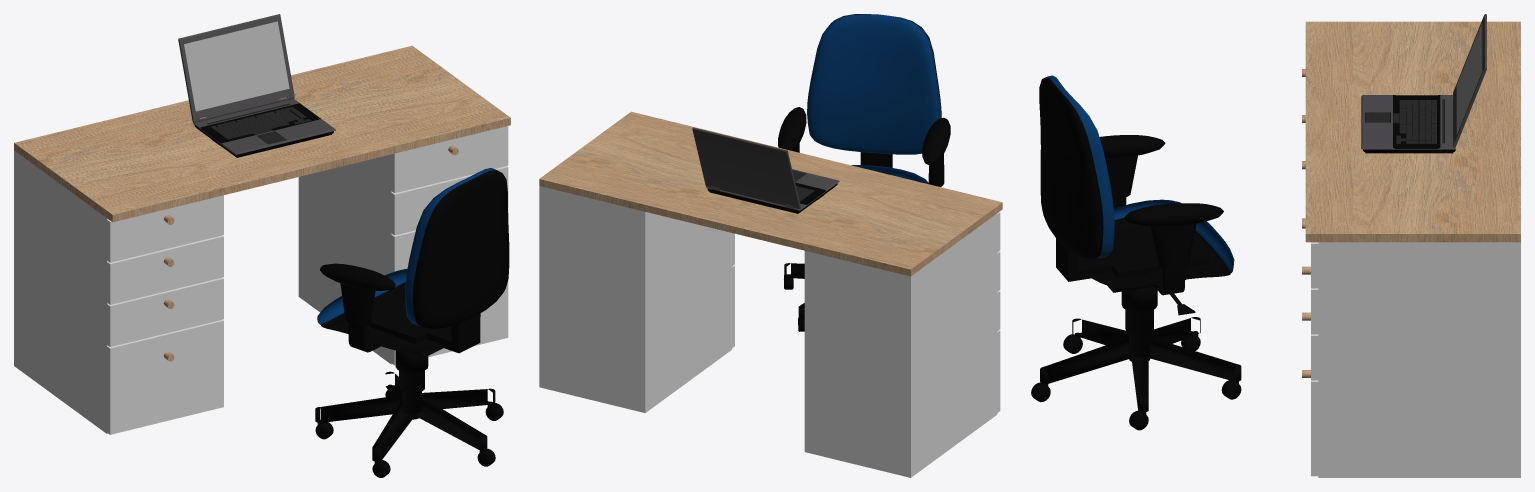
The model's file is Desk.FBX.
3 renders of one model, left to right at view 1: azimuth 30°, elevation 25°; view 2: azimuth 150°, elevation 25°; view 3: azimuth 270°, elevation 25°, orthographic. The views are drawn at different scales.
Visible parts, largest first — view 1: Desk, Desk_chair, Laptop; view 2: Desk, Desk_chair, Laptop; view 3: Desk, Desk_chair, Laptop.
Part boxes in pixels (x1,y1,x2,y2): Desk: [14, 45, 510, 434]; Desk_chair: [315, 168, 509, 477]; Laptop: [178, 14, 335, 157]; Desk: [539, 111, 1002, 477]; Desk_chair: [778, 14, 950, 331]; Laptop: [692, 127, 839, 213]; Desk: [1302, 21, 1520, 477]; Desk_chair: [1031, 75, 1241, 430]; Laptop: [1361, 14, 1486, 153].
Size of the model in its own units: 140 by 102 by 137.
